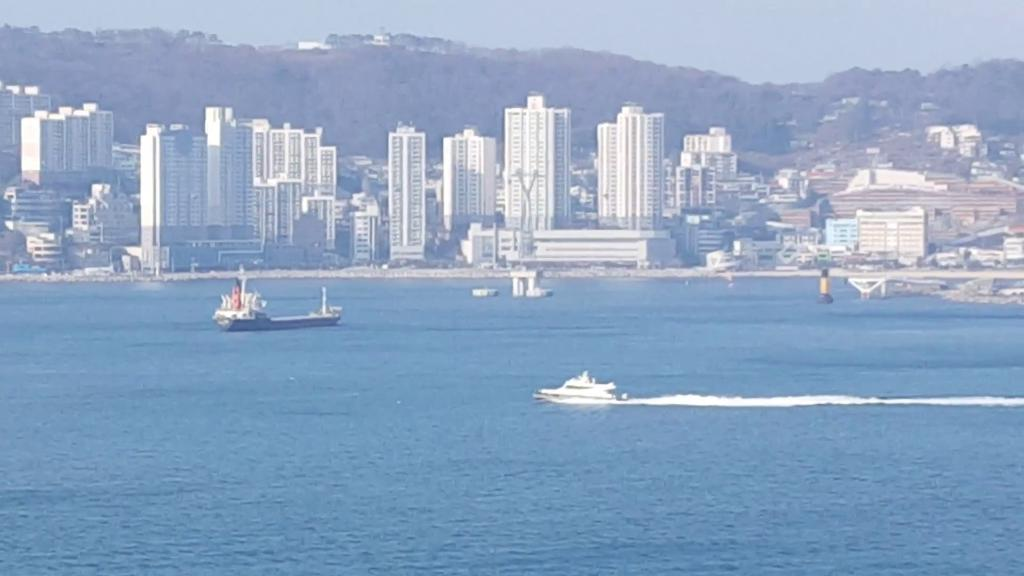PassengerShip: (528, 368, 634, 406)
